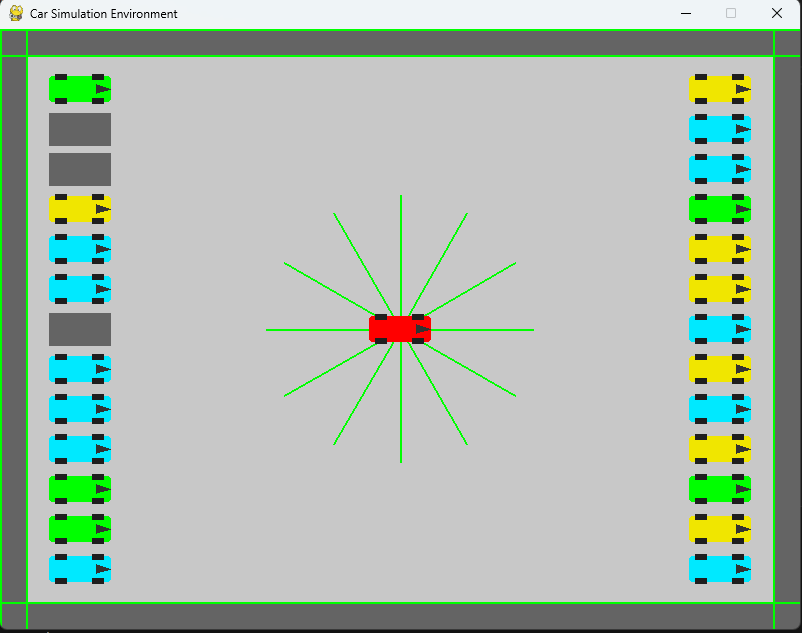ControlledCar: (368, 310, 441, 352)
ParkedCar: (41, 66, 117, 109), (678, 66, 753, 108), (682, 431, 757, 468), (49, 509, 115, 551), (43, 188, 115, 226), (688, 148, 750, 190), (47, 351, 116, 388), (49, 393, 115, 431), (46, 272, 117, 307), (47, 554, 116, 590), (689, 230, 756, 267), (685, 110, 751, 147), (685, 511, 754, 546), (49, 471, 116, 507), (47, 230, 115, 265), (686, 192, 754, 227), (685, 314, 753, 349), (45, 434, 116, 467), (687, 272, 753, 307), (683, 393, 752, 426), (686, 351, 751, 386), (687, 474, 755, 507), (685, 553, 751, 585)
ParkingSpot: (41, 149, 121, 185), (46, 113, 117, 149), (48, 313, 113, 350)
